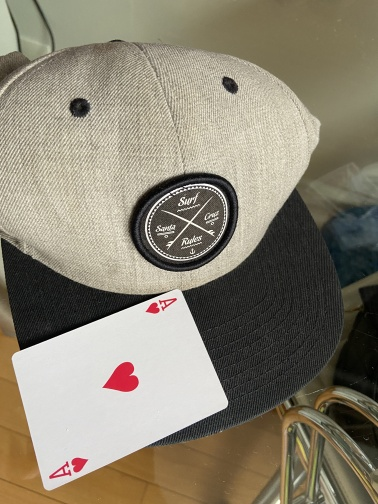ace: (9, 287, 230, 493)
